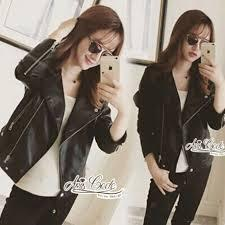jacket: (0, 50, 121, 195), (135, 58, 223, 176)
